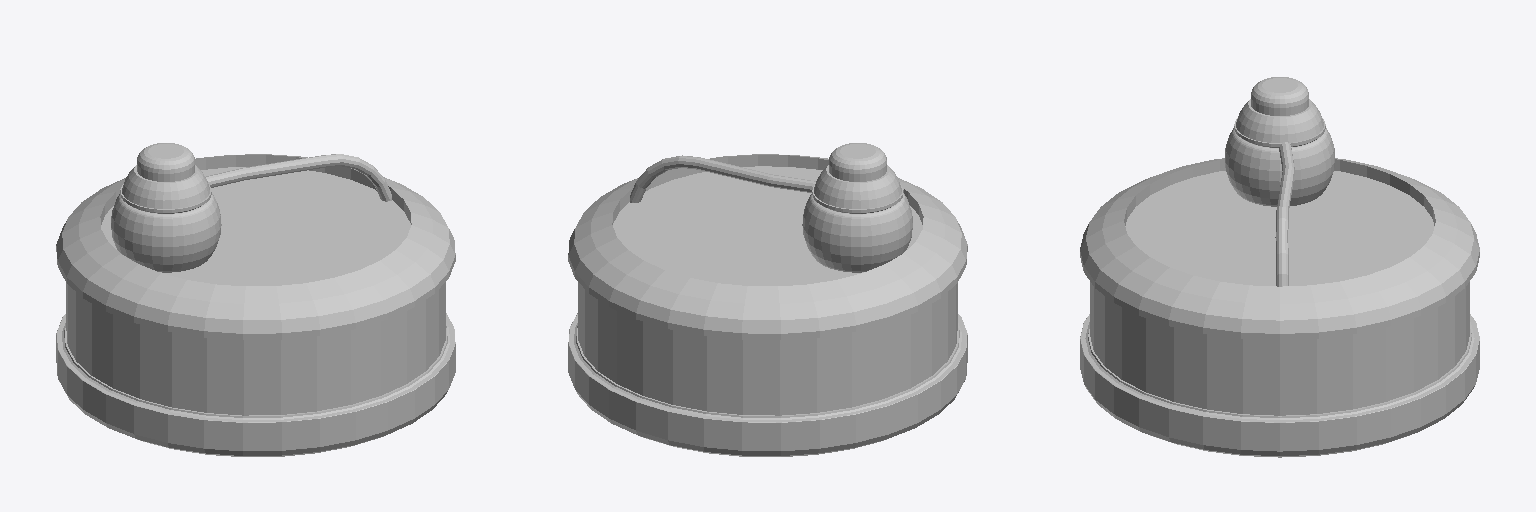
The model's file is SetA_Container_Style_15.obj.
The picture shows the model from 3 angles: view 1: azimuth 30°, elevation 25°; view 2: azimuth 150°, elevation 25°; view 3: azimuth 270°, elevation 25°; orthographic projection.
Parts seen in each view (by area): view 1: SetA_Container_Style_15; view 2: SetA_Container_Style_15; view 3: SetA_Container_Style_15.
Part boxes in pixels (left/top/right/bottom): SetA_Container_Style_15: left=56, top=143, right=455, bottom=456; SetA_Container_Style_15: left=568, top=143, right=967, bottom=456; SetA_Container_Style_15: left=1080, top=77, right=1479, bottom=457.
Size of the model in its own units: 0.4024 by 0.2811 by 0.4024.